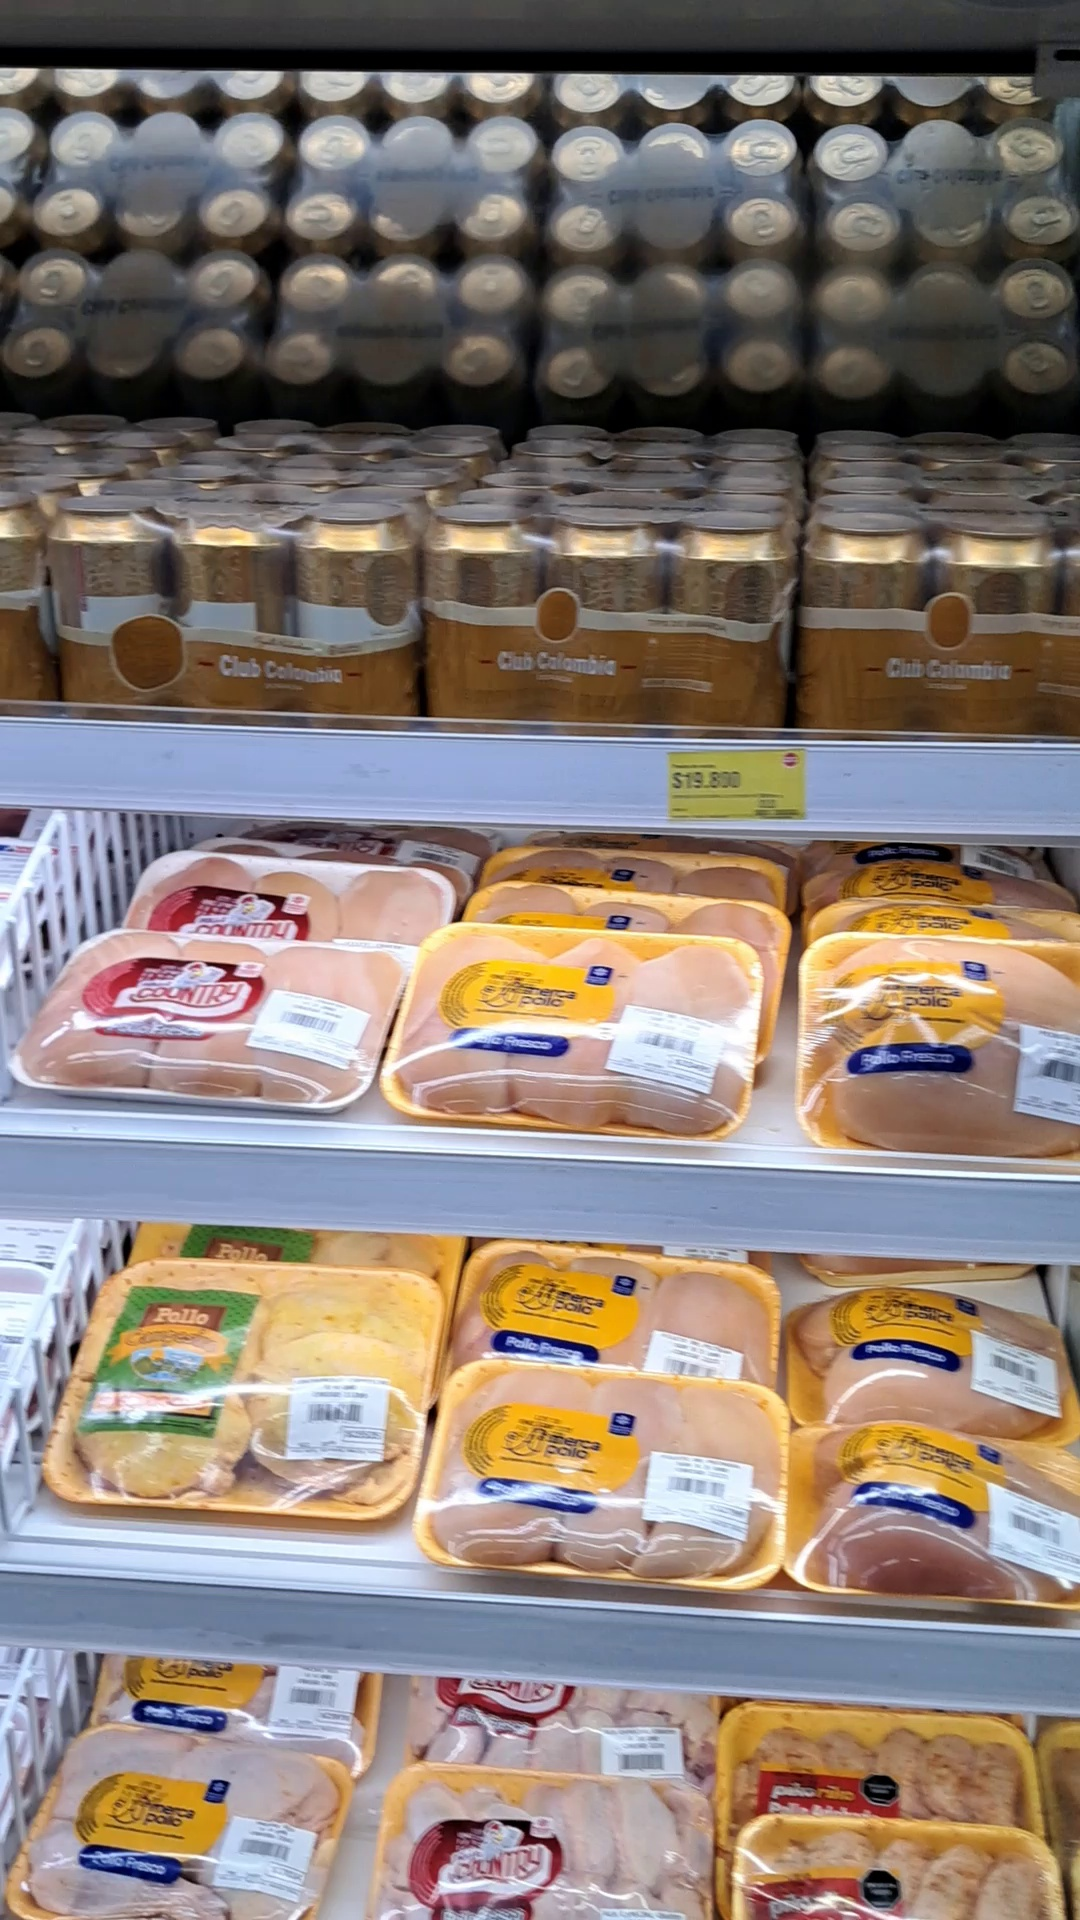Cerveza: (432, 487, 812, 720), (57, 479, 420, 703), (815, 489, 1080, 720), (154, 427, 534, 477), (807, 430, 1075, 489), (487, 432, 802, 472)
